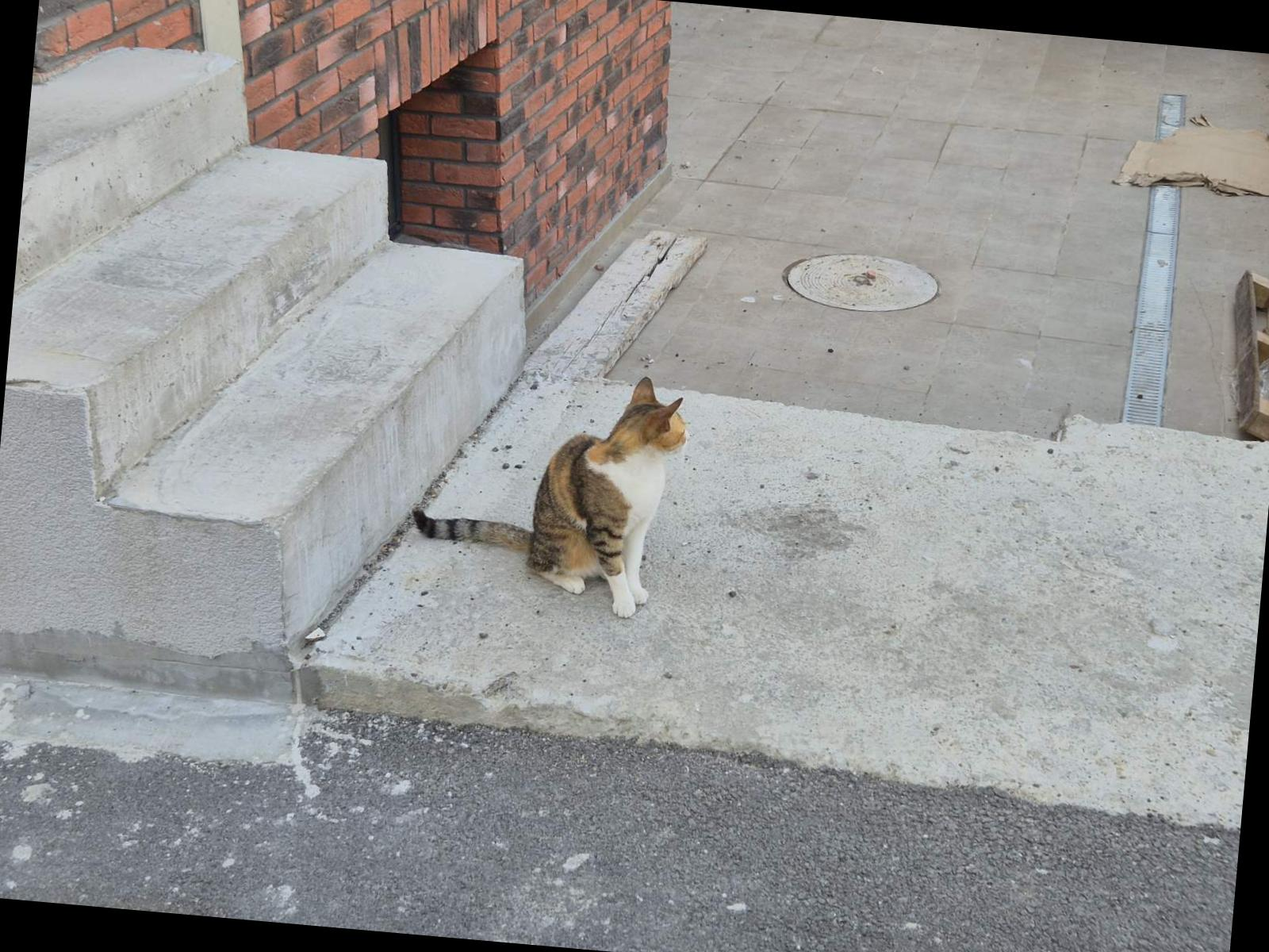macka: (406, 357, 694, 622)
